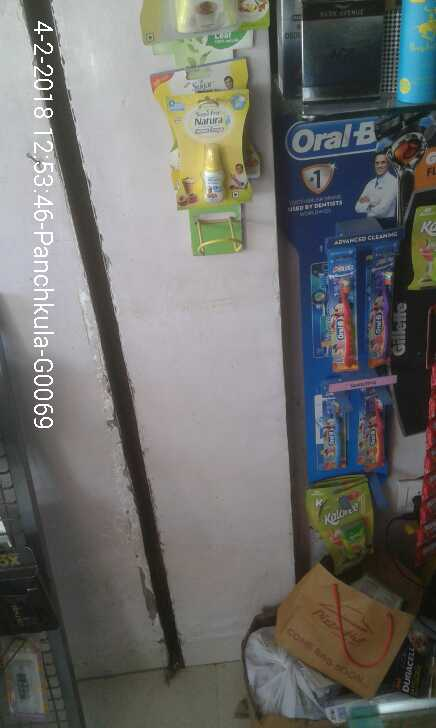oralb: (353, 266, 392, 362), (328, 264, 354, 370)
